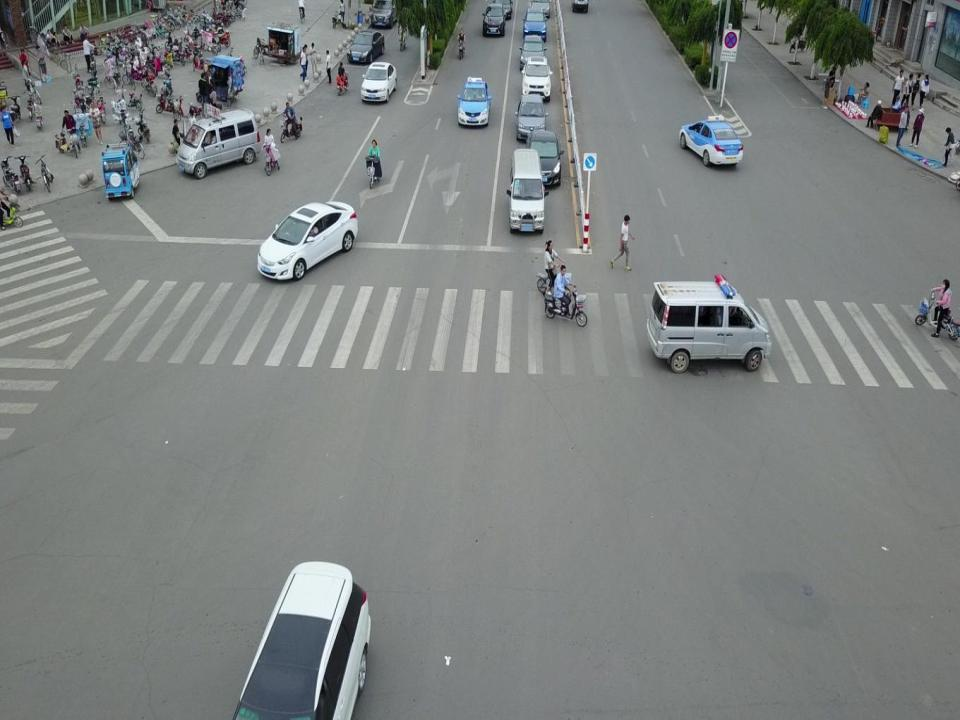car: (222, 557, 372, 720), (258, 202, 359, 283), (678, 114, 742, 167), (526, 130, 564, 187), (457, 74, 491, 126), (513, 93, 549, 140), (358, 60, 397, 103), (346, 28, 384, 66), (521, 57, 553, 100), (518, 36, 551, 70), (522, 6, 548, 40), (367, 0, 398, 24), (482, 3, 505, 35), (0, 197, 22, 228), (491, 0, 512, 19), (530, 0, 551, 17), (33, 108, 44, 133)
van: (644, 276, 772, 372), (176, 108, 263, 177), (506, 148, 544, 231), (571, 0, 589, 13)
